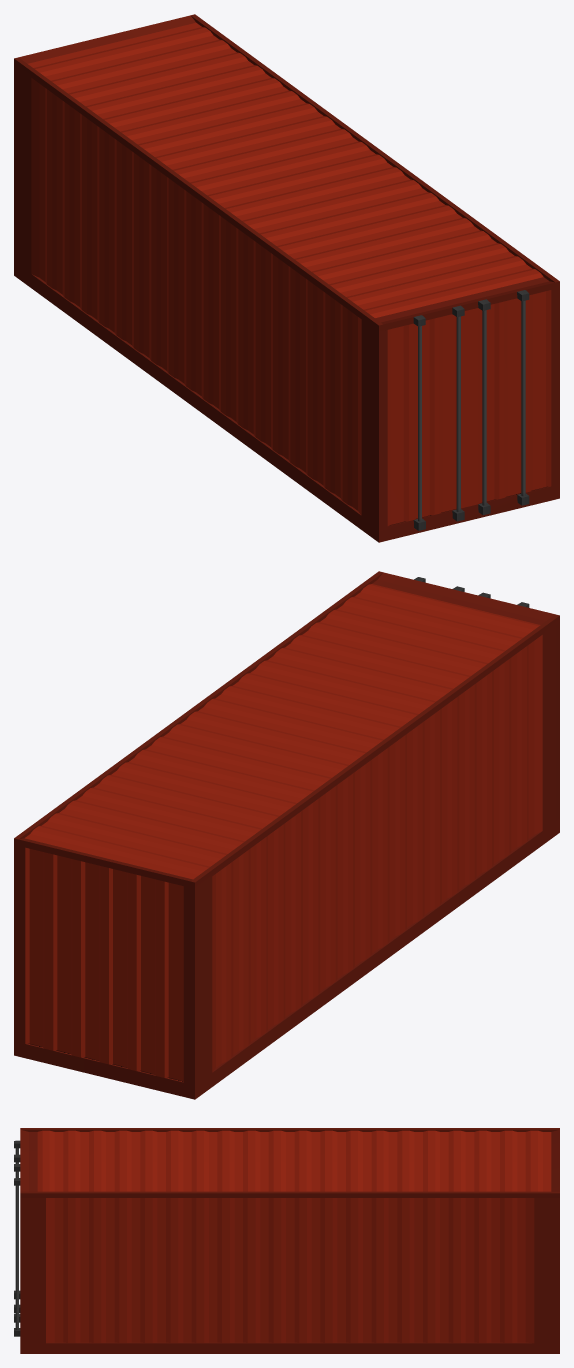
The model's file is Large Red Shipping Conainer Closed.fbx.
The picture shows the model from 3 angles, top to bottom: view 1: azimuth 30°, elevation 25°; view 2: azimuth 150°, elevation 25°; view 3: azimuth 270°, elevation 25°; orthographic projection. The views are drawn at different scales.
Parts seen in each view (by area): view 1: Large Red Shipping Container Closed; view 2: Large Red Shipping Container Closed; view 3: Large Red Shipping Container Closed.
Part boxes in pixels (left/top/right/bottom): Large Red Shipping Container Closed: left=14, top=14, right=559, bottom=542; Large Red Shipping Container Closed: left=14, top=571, right=559, bottom=1099; Large Red Shipping Container Closed: left=14, top=1128, right=559, bottom=1353.
Size of the model in its own units: 1052 by 3242 by 918.
Materials: 1 (1 with a texture image).
